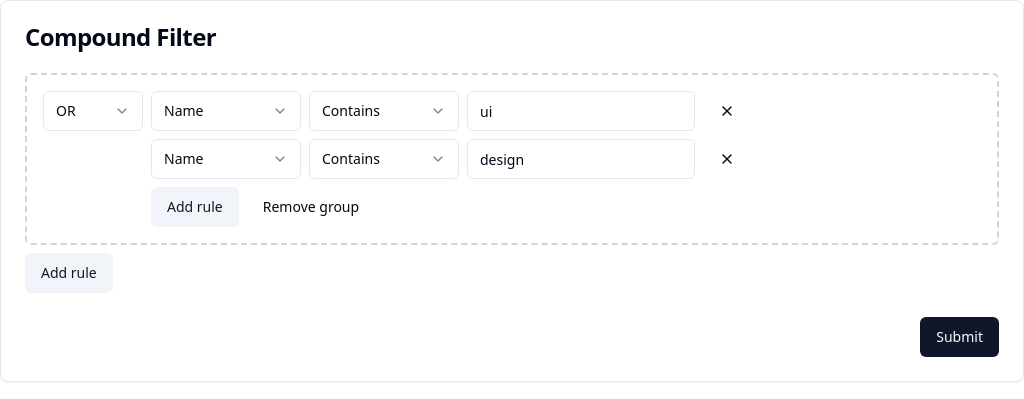
Test: CompoundFilter › should handle remove filter group
Expected: the button "Submit" is enabled, [920,317,999,357]
Expected: the 2nd field showing "design" is shown, [467,139,695,179]
Click the button "Remove group". click: click(311, 207)
box: [247,187,375,227]
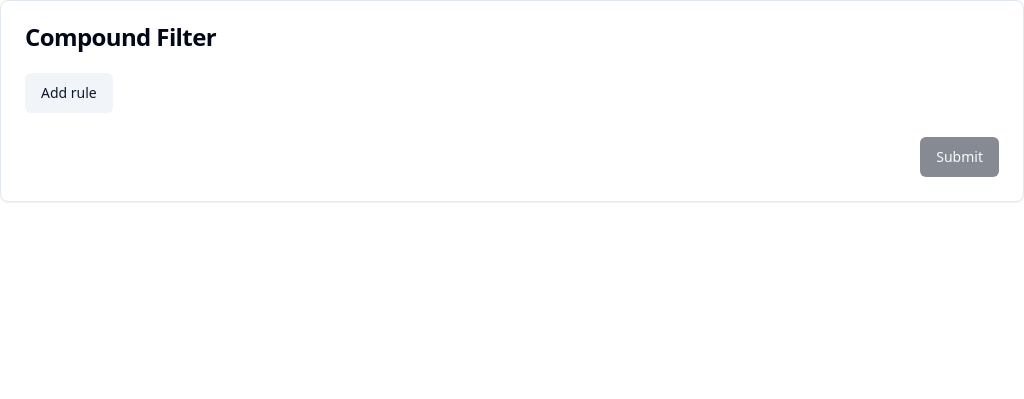
Now the button "Submit" is disabled, box [920,137,999,177]
